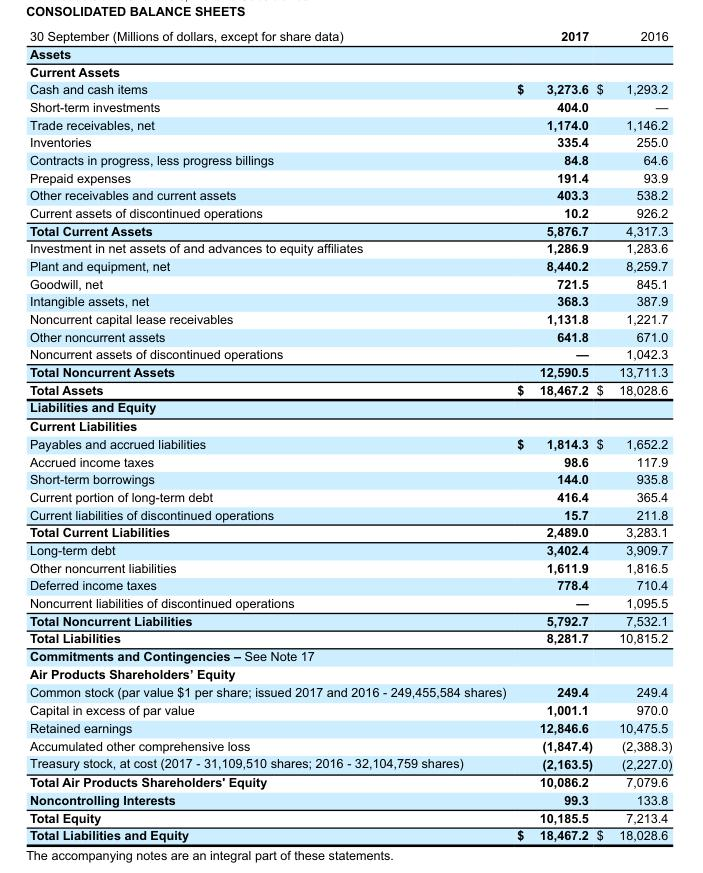table: (28, 28, 671, 842)
table column: (28, 28, 510, 842), (510, 28, 593, 842), (593, 28, 671, 842)
table column header: (28, 28, 671, 44)
table projected row header: (28, 44, 671, 62), (28, 62, 671, 80), (28, 398, 671, 416), (28, 416, 671, 434), (28, 646, 671, 664), (28, 664, 671, 682)
table row: (28, 44, 671, 62), (28, 62, 671, 80), (28, 97, 671, 115), (28, 115, 671, 133), (28, 150, 671, 168), (28, 168, 671, 186), (28, 203, 671, 221), (28, 221, 671, 239), (28, 256, 671, 274), (28, 274, 671, 292), (28, 309, 671, 327), (28, 327, 671, 345), (28, 362, 671, 380), (28, 380, 671, 398), (28, 398, 671, 416), (28, 416, 671, 434), (28, 434, 671, 452), (28, 452, 671, 470), (28, 487, 671, 505), (28, 505, 671, 523), (28, 540, 671, 558), (28, 558, 671, 576), (28, 593, 671, 611), (28, 611, 671, 629), (28, 646, 671, 664), (28, 664, 671, 682), (28, 682, 671, 700), (28, 700, 671, 718), (28, 718, 671, 736), (28, 736, 671, 754), (28, 754, 671, 772), (28, 772, 671, 790), (28, 790, 671, 808), (28, 808, 671, 826), (28, 80, 671, 97), (28, 133, 671, 150), (28, 186, 671, 203), (28, 239, 671, 256), (28, 292, 671, 309), (28, 345, 671, 362), (28, 470, 671, 487), (28, 523, 671, 540), (28, 576, 671, 593), (28, 629, 671, 646), (28, 28, 671, 44), (28, 826, 671, 842)
